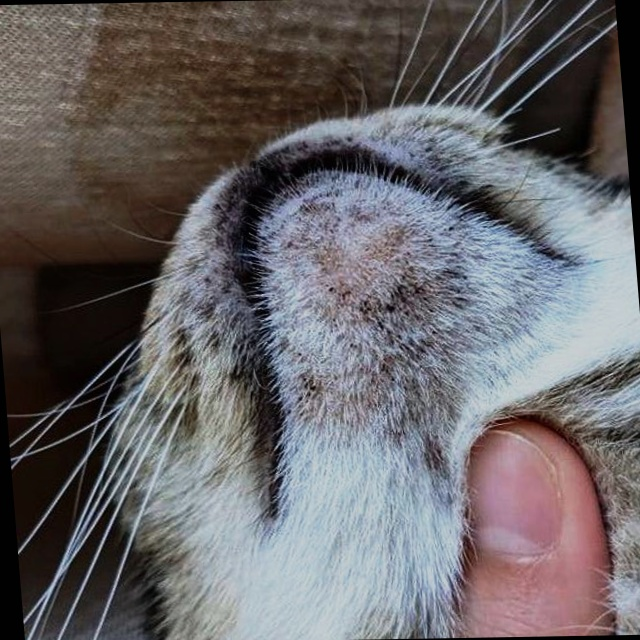acne: (274, 212, 487, 444)
